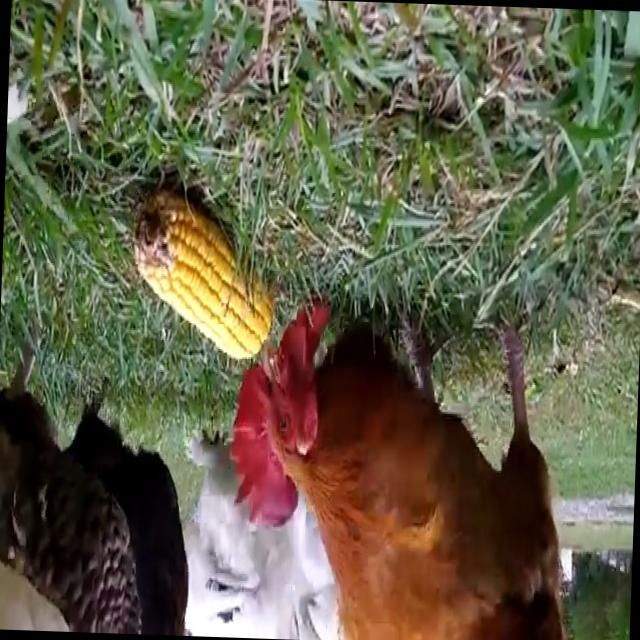feeding: (218, 312, 577, 640)
